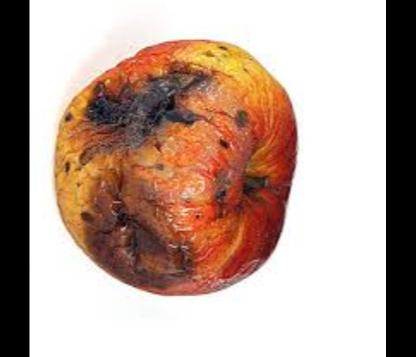defect: (30, 178, 242, 314), (34, 51, 240, 172)
